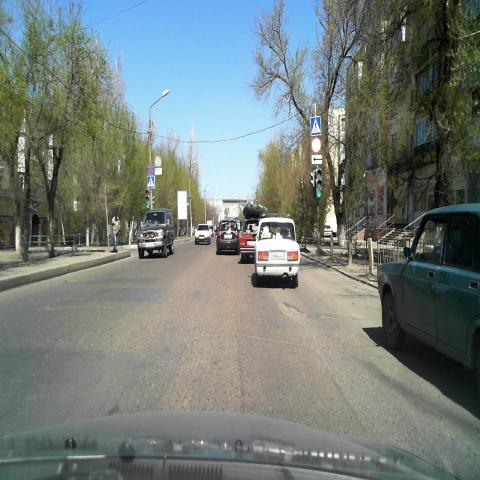3_2: (311, 138, 321, 154)
8_3_2: (312, 154, 322, 164)
